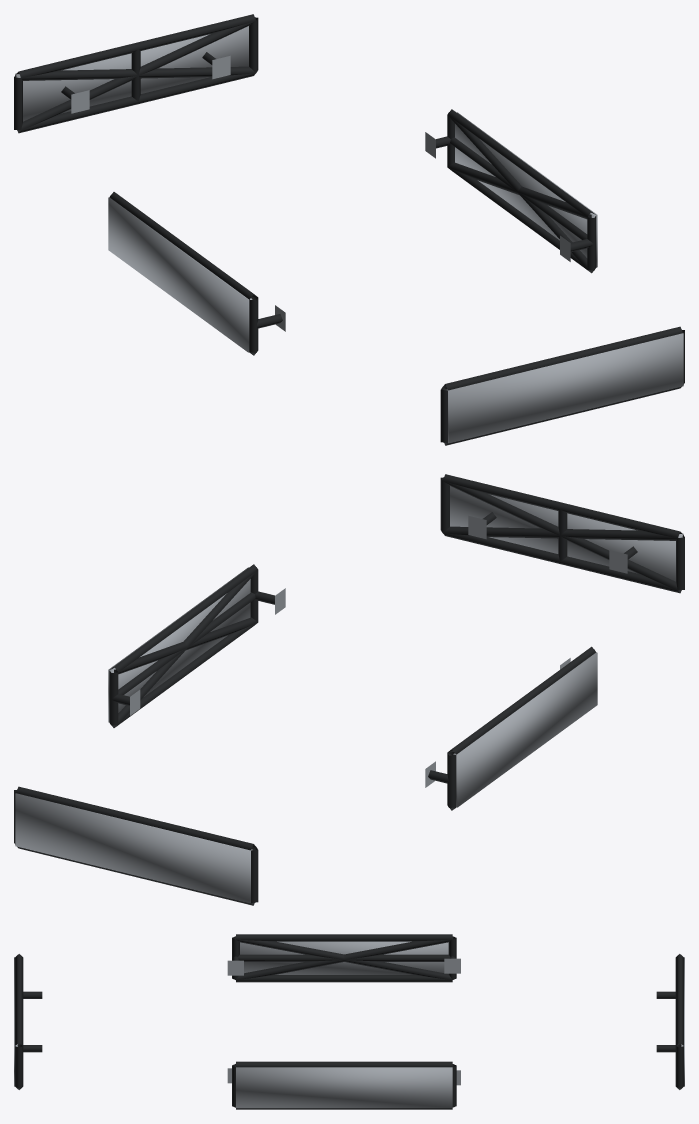
Rendered from kanaya_cunha_protecao.glb.
3 renders of one model, top to bottom at view 1: azimuth 30°, elevation 25°; view 2: azimuth 150°, elevation 25°; view 3: azimuth 270°, elevation 25°, orthographic. The views are drawn at different scales.
Visible parts, largest first — view 1: Protection_front_Level3_Details, Protection_left_Level3_Details, Protection_rear_Level1_Details, Protection_rear_Level3_Details, Protection_rear_Level2_Details, Protection_right_Level1_Details, Protection_right_Level2_Details, Protection_right_Level3_Details, Protection_front_Level1_Details, Protection_left_Level1_Details; view 2: Protection_rear_Level3_Details, Protection_left_Level3_Details, Protection_front_Level1_Details, Protection_front_Level3_Details, Protection_front_Level2_Details, Protection_right_Level1_Details, Protection_right_Level2_Details, Protection_right_Level3_Details, Protection_rear_Level1_Details, Protection_left_Level1_Details; view 3: Protection_right_Level3_Details, Protection_left_Level2_Details, Protection_left_Level1_Details, Protection_left_Level3_Details, Protection_right_Level1_Details, Protection_rear_Level1_Details, Protection_front_Level1_Details.
Boxes of the visible parts, x1=… form: Protection_front_Level3_Details: x1=446, y1=333, x2=683, y2=443; Protection_left_Level3_Details: x1=108, y1=197, x2=252, y2=352; Protection_rear_Level1_Details: x1=14, y1=14, x2=258, y2=133; Protection_rear_Level3_Details: x1=15, y1=26, x2=248, y2=121; Protection_rear_Level2_Details: x1=16, y1=21, x2=255, y2=132; Protection_right_Level1_Details: x1=425, y1=109, x2=596, y2=273; Protection_right_Level2_Details: x1=447, y1=115, x2=595, y2=272; Protection_right_Level3_Details: x1=455, y1=112, x2=597, y2=267; Protection_front_Level1_Details: x1=440, y1=326, x2=684, y2=445; Protection_left_Level1_Details: x1=109, y1=192, x2=285, y2=355; Protection_rear_Level3_Details: x1=15, y1=793, x2=252, y2=903; Protection_left_Level3_Details: x1=453, y1=652, x2=597, y2=807; Protection_front_Level1_Details: x1=440, y1=474, x2=684, y2=593; Protection_front_Level3_Details: x1=450, y1=486, x2=683, y2=581; Protection_front_Level2_Details: x1=443, y1=481, x2=682, y2=592; Protection_right_Level1_Details: x1=109, y1=564, x2=285, y2=727; Protection_right_Level2_Details: x1=110, y1=570, x2=257, y2=727; Protection_right_Level3_Details: x1=108, y1=567, x2=250, y2=722; Protection_rear_Level1_Details: x1=14, y1=786, x2=258, y2=905; Protection_left_Level1_Details: x1=425, y1=646, x2=595, y2=810; Protection_right_Level3_Details: x1=236, y1=1067, x2=452, y2=1108; Protection_left_Level2_Details: x1=235, y1=937, x2=452, y2=979; Protection_left_Level1_Details: x1=227, y1=934, x2=460, y2=982; Protection_left_Level3_Details: x1=240, y1=941, x2=448, y2=974; Protection_right_Level1_Details: x1=227, y1=1061, x2=460, y2=1109; Protection_rear_Level1_Details: x1=656, y1=954, x2=683, y2=1089; Protection_front_Level1_Details: x1=15, y1=954, x2=42, y2=1089.
Bounding box in the file's own units: 2.09 × 0.354 × 4.49.
1 material, 1 textured.
